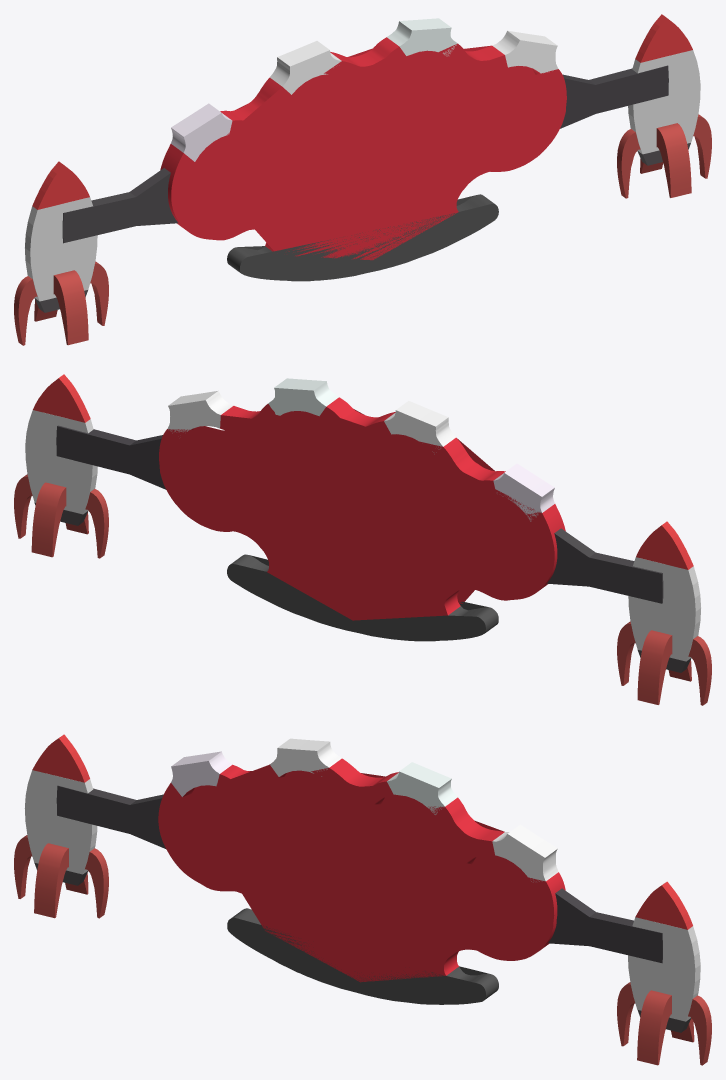
The model's file is CoheteModelo.fbx.
3 views of the same model, one above another, from view 1: azimuth 30°, elevation 25°; view 2: azimuth 150°, elevation 25°; view 3: azimuth 330°, elevation 25° (orthographic).
Parts seen in each view (by area): view 1: BezierCurve.001, BezierCurve.006, Cube.004, Cube.013, Cube.007, Cube.008, BezierCurve.005, BezierCurve.004, Cube.003, Cube.012, BezierCurve.002, BezierCurve.003 (+6 smaller); view 2: BezierCurve.001, BezierCurve.006, Cube.004, Cube.013, Cube.007, Cube.008, BezierCurve.004, BezierCurve.005, Cube.015, Cube.006, BezierCurve.003, BezierCurve.002 (+6 smaller); view 3: BezierCurve.001, BezierCurve.006, Cube.013, Cube.004, Cube.008, Cube.007, BezierCurve.002, BezierCurve.003, Cube.003, Cube.012, BezierCurve.004, BezierCurve.005 (+6 smaller).
Boxes of the visible parts, x1,y1,x2,y2 form: BezierCurve.001: (160, 37, 566, 260); BezierCurve.006: (227, 194, 498, 281); Cube.004: (25, 197, 97, 301); Cube.013: (628, 50, 700, 154); Cube.007: (62, 168, 178, 243); Cube.008: (560, 65, 668, 128); BezierCurve.005: (171, 103, 232, 161); BezierCurve.004: (270, 41, 341, 94); Cube.003: (53, 270, 88, 345); Cube.012: (656, 123, 691, 197); BezierCurve.002: (492, 30, 558, 73); BezierCurve.003: (387, 18, 457, 56); BezierCurve.001: (159, 397, 565, 620); BezierCurve.006: (227, 554, 498, 641); Cube.004: (628, 557, 700, 661); Cube.013: (25, 410, 97, 514); Cube.007: (547, 528, 663, 603); Cube.008: (56, 425, 166, 489); BezierCurve.004: (384, 401, 455, 454); BezierCurve.005: (493, 463, 554, 521); Cube.015: (31, 482, 66, 557); Cube.006: (637, 630, 672, 704); BezierCurve.003: (268, 378, 338, 416); BezierCurve.002: (167, 390, 233, 433); BezierCurve.001: (158, 758, 565, 982); BezierCurve.006: (227, 908, 498, 1004); Cube.013: (628, 917, 700, 1021); Cube.004: (24, 770, 97, 874); Cube.008: (548, 888, 662, 963); Cube.007: (56, 785, 165, 848); BezierCurve.002: (492, 824, 558, 882); BezierCurve.003: (387, 762, 457, 814); Cube.003: (34, 843, 68, 918); Cube.012: (637, 990, 671, 1065); BezierCurve.004: (270, 738, 341, 776); BezierCurve.005: (171, 751, 232, 796).
Size of the model in its own units: 2379 by 762 by 200.
